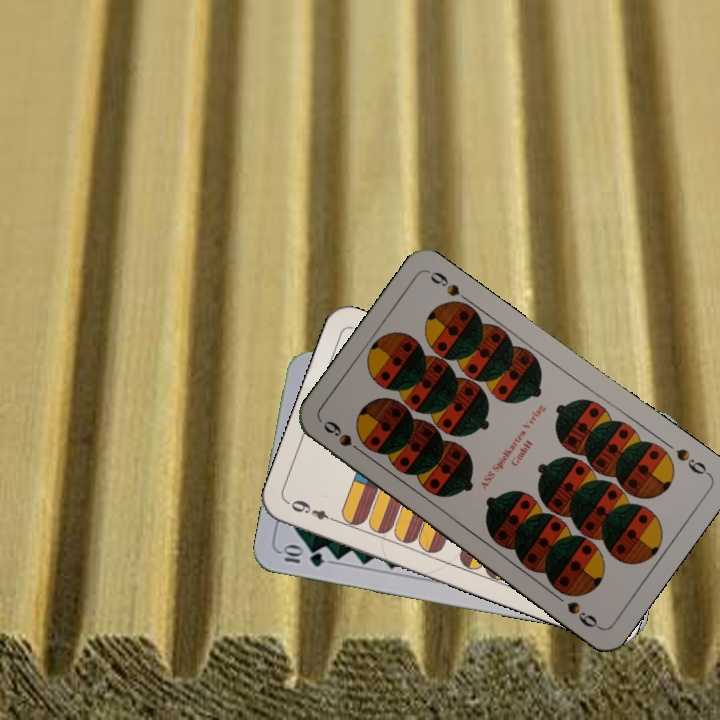E9: (287, 496, 341, 526)
G10: (277, 542, 327, 570)
S9: (319, 416, 369, 459), (672, 444, 713, 479)
